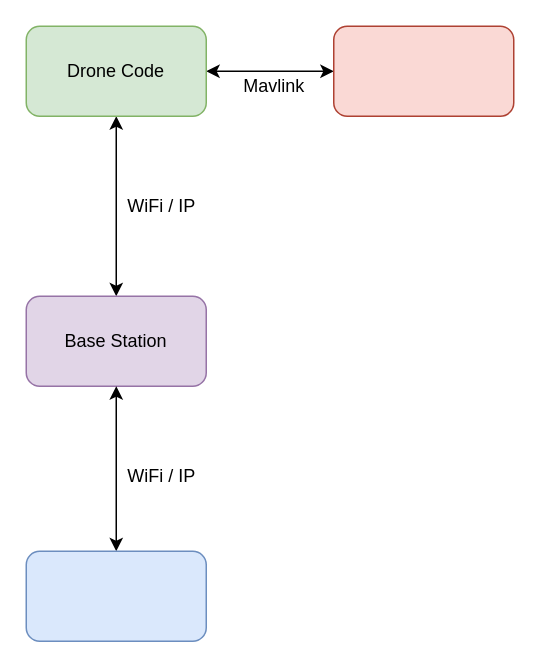
Image size: 540x668. Some labels were removed from this diagram. Here are the shapes that lost their labels. From the top down, the centre of each, then its label:
At point (423, 70): "Autopilot".
At point (115, 595): "Controller Interface".
